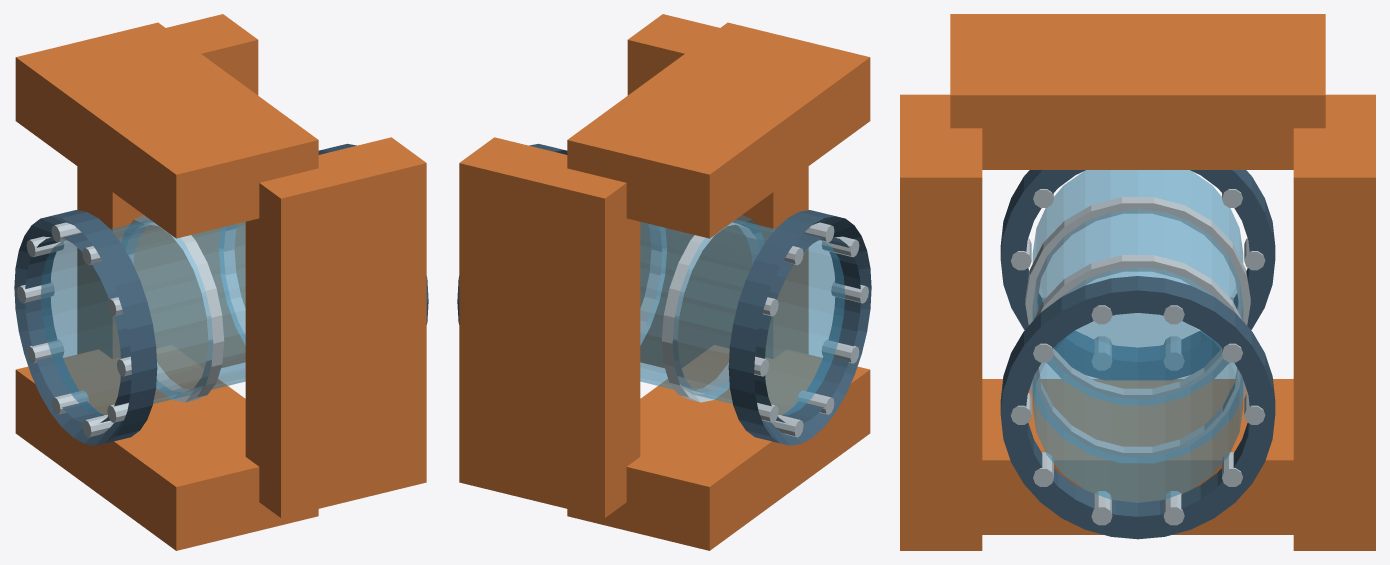
File: 14_L75_ElectromagneticBeamSteeringAssembly.fbx
3 views of the same model, side by side, from view 1: azimuth 30°, elevation 25°; view 2: azimuth 150°, elevation 25°; view 3: azimuth 270°, elevation 25° (orthographic). The views are drawn at different scales.
Visible parts, largest first — view 1: ElectromagneticBeamSteeringAssembly_Part_0028, ElectromagneticBeamSteeringAssembly, ElectromagneticBeamSteeringAssembly_Part_0026, ElectromagneticBeamSteeringAssembly_Part_0025, ElectromagneticBeamSteeringAssembly_Part_0027; view 2: ElectromagneticBeamSteeringAssembly_Part_0027, ElectromagneticBeamSteeringAssembly, ElectromagneticBeamSteeringAssembly_Part_0026, ElectromagneticBeamSteeringAssembly_Part_0025, ElectromagneticBeamSteeringAssembly_Part_0028; view 3: ElectromagneticBeamSteeringAssembly, ElectromagneticBeamSteeringAssembly_Part_0026, ElectromagneticBeamSteeringAssembly_Part_0027, ElectromagneticBeamSteeringAssembly_Part_0028, ElectromagneticBeamSteeringAssembly_Part_0025.
Part boxes in pixels (x1,y1,x2,y2): ElectromagneticBeamSteeringAssembly_Part_0028: (245, 137, 426, 517); ElectromagneticBeamSteeringAssembly: (14, 143, 428, 445); ElectromagneticBeamSteeringAssembly_Part_0026: (15, 22, 318, 238); ElectromagneticBeamSteeringAssembly_Part_0025: (15, 345, 318, 550); ElectromagneticBeamSteeringAssembly_Part_0027: (77, 14, 258, 367); ElectromagneticBeamSteeringAssembly_Part_0027: (459, 137, 640, 517); ElectromagneticBeamSteeringAssembly: (457, 143, 871, 445); ElectromagneticBeamSteeringAssembly_Part_0026: (567, 22, 870, 238); ElectromagneticBeamSteeringAssembly_Part_0025: (567, 345, 870, 550); ElectromagneticBeamSteeringAssembly_Part_0028: (627, 14, 808, 367); ElectromagneticBeamSteeringAssembly: (1000, 170, 1275, 539); ElectromagneticBeamSteeringAssembly_Part_0026: (950, 14, 1325, 169); ElectromagneticBeamSteeringAssembly_Part_0027: (1293, 94, 1375, 550); ElectromagneticBeamSteeringAssembly_Part_0028: (900, 94, 982, 550); ElectromagneticBeamSteeringAssembly_Part_0025: (982, 379, 1293, 534).
Size of the model in its own units: 88.5 by 106 by 104.
